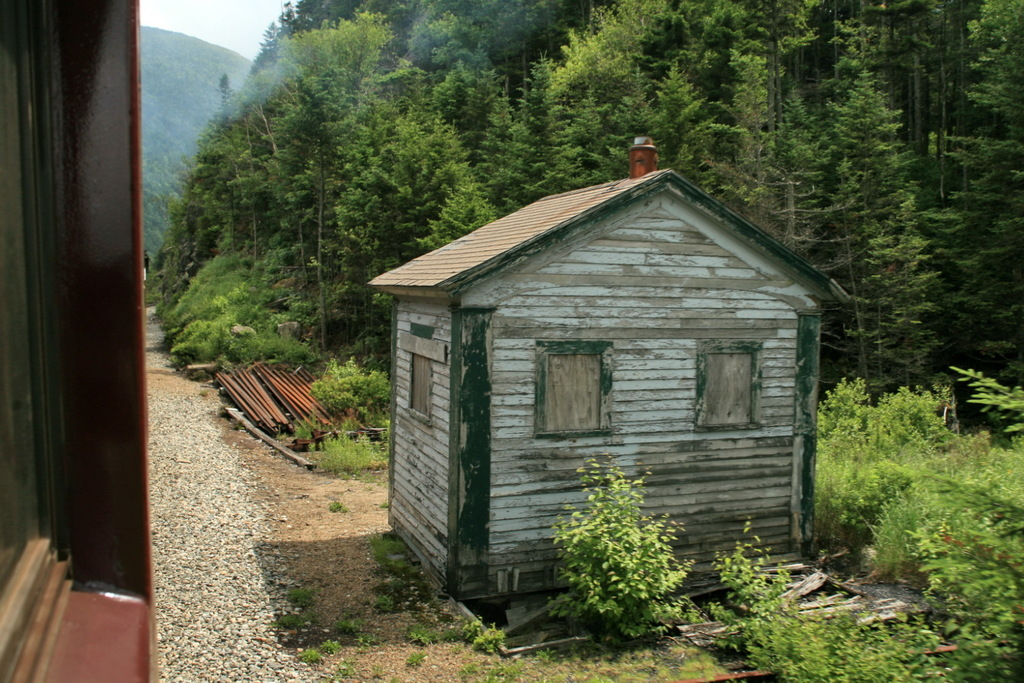Tree: (142, 0, 1024, 404)
